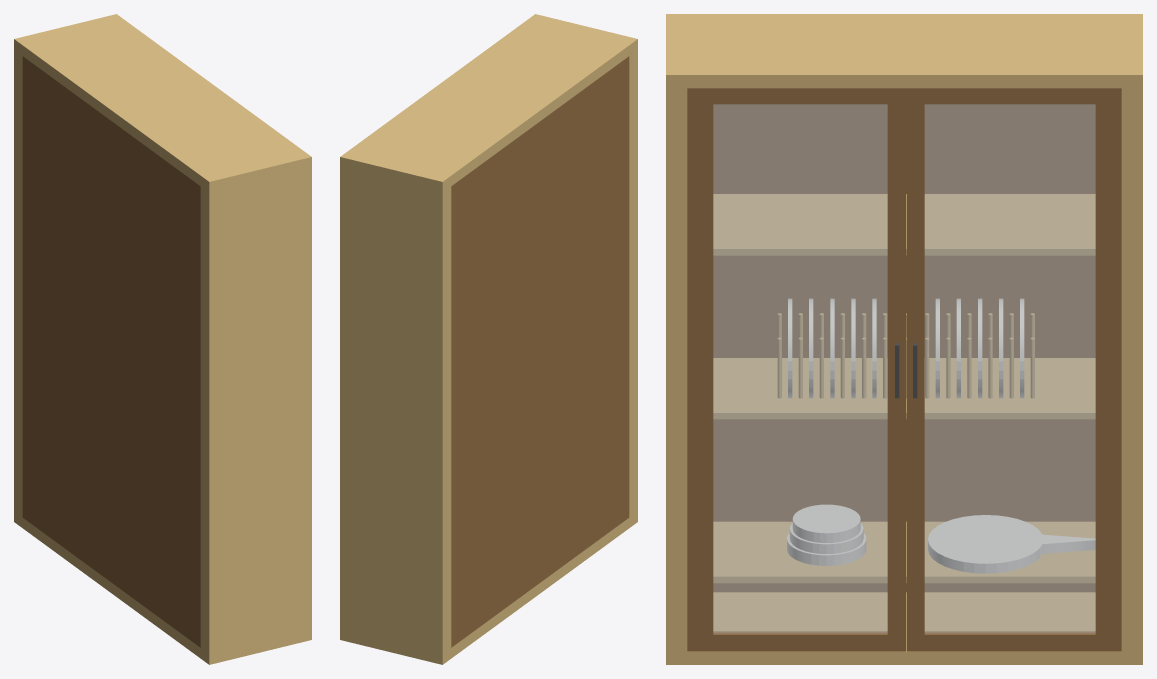
Rendered from lemari piring.fbx.
The picture shows the model from 3 angles, left to right: view 1: azimuth 30°, elevation 25°; view 2: azimuth 150°, elevation 25°; view 3: azimuth 270°, elevation 25°; orthographic projection. The views are drawn at different scales.
Parts seen in each view (by area): view 1: Cube.004; view 2: Cube.004; view 3: Cube.004.
Part boxes in pixels (left/top/right/bottom): Cube.004: left=14, top=14, right=311, bottom=664; Cube.004: left=340, top=14, right=637, bottom=664; Cube.004: left=666, top=14, right=1142, bottom=664.
Size of the model in its own units: 211 by 66 by 288.
